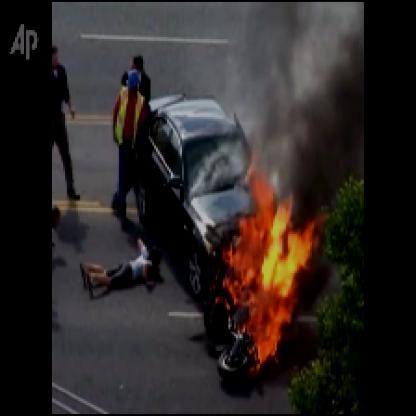Fire: (206, 160, 321, 380)
Smoke: (238, 2, 362, 178)
